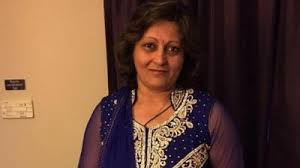indian_female: (98, 1, 211, 99)
